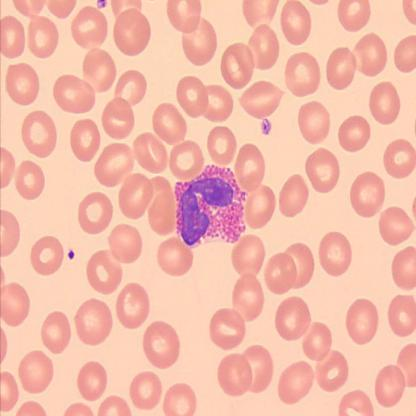Eosinophil: (175, 163, 246, 247)
